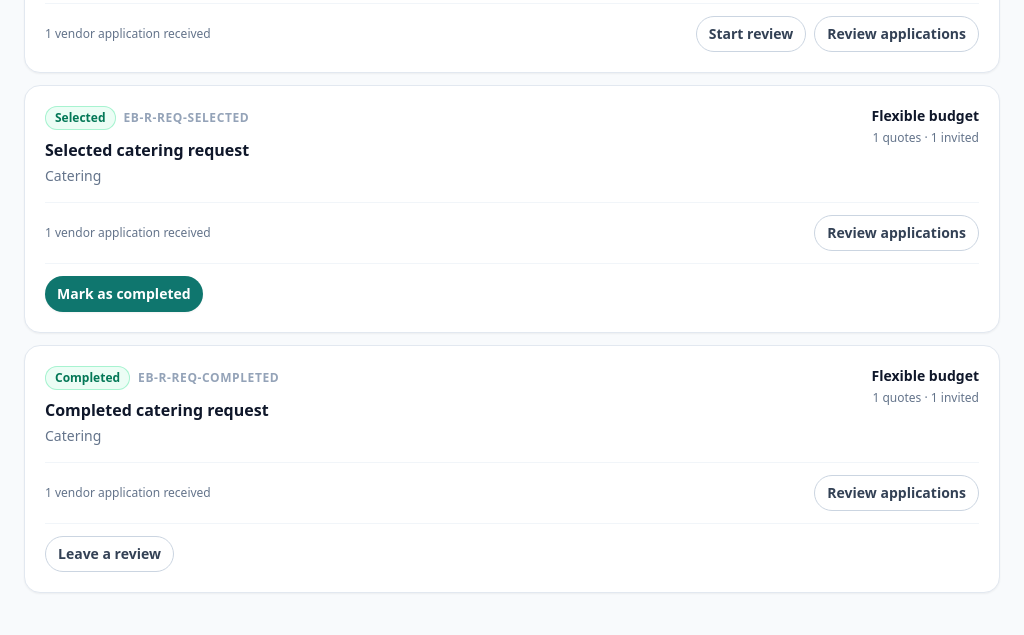
it: SocietyPage lifecycle actions › offers completion for selected requests and reviews only after completion
The width and height of the screenshot is (1024, 635).
(page scrolled)
Expected: the element "Selected catering request" is shown, [24, 85, 1000, 333]
Expected: the button "Leave a review" is shown, [45, 536, 174, 572]
Click the button "Mark as completed" at coordinates (124, 294), box [45, 276, 203, 312]
(page scrolled)
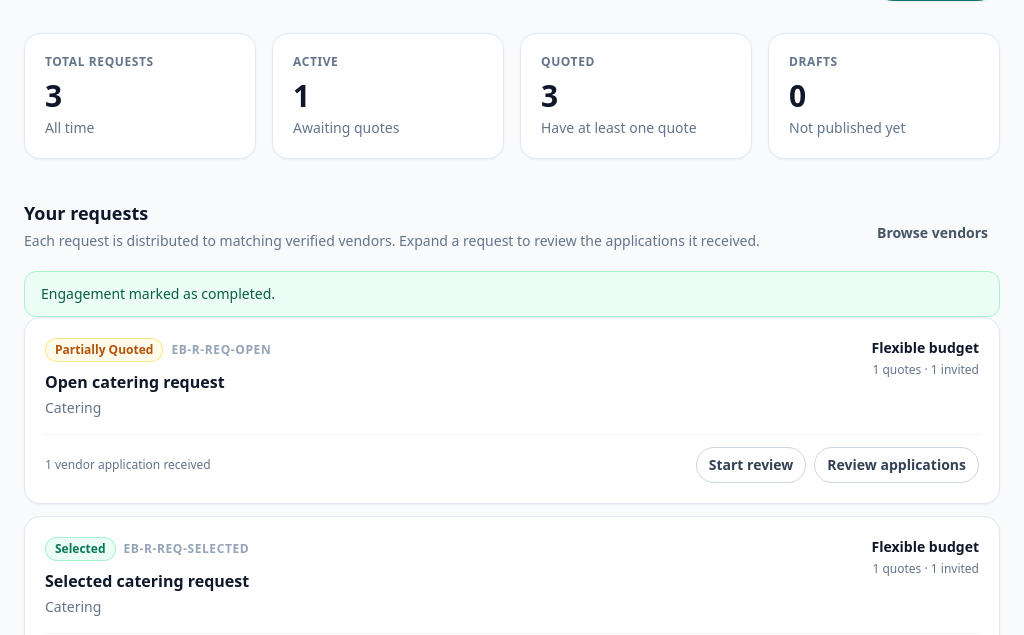
Expected: the text "Engagement marked as completed." is shown, [24, 271, 1000, 317]
